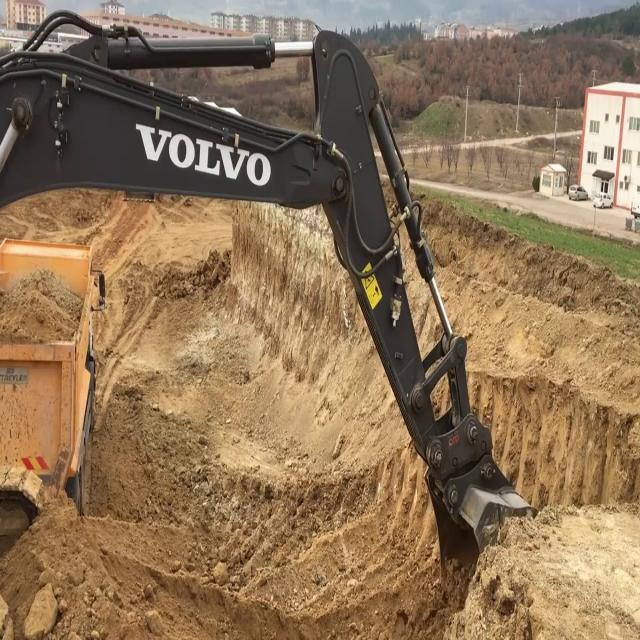excavator: (1, 22, 520, 603)
